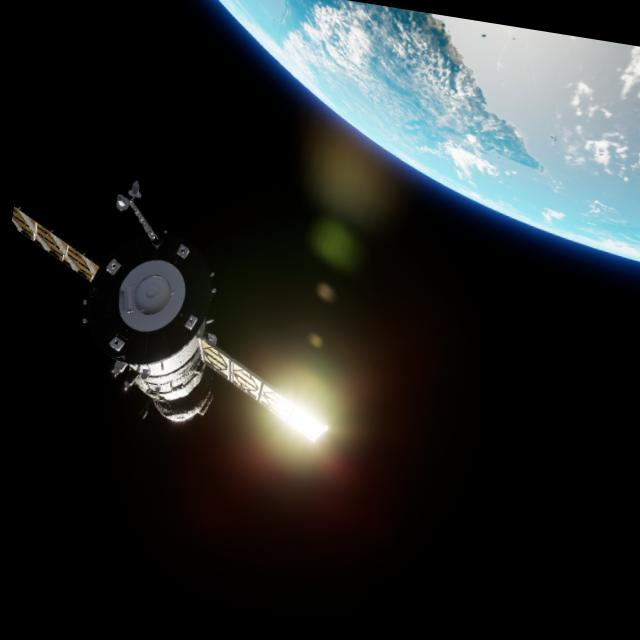Satellites revolving around earth: (0, 160, 365, 456)
